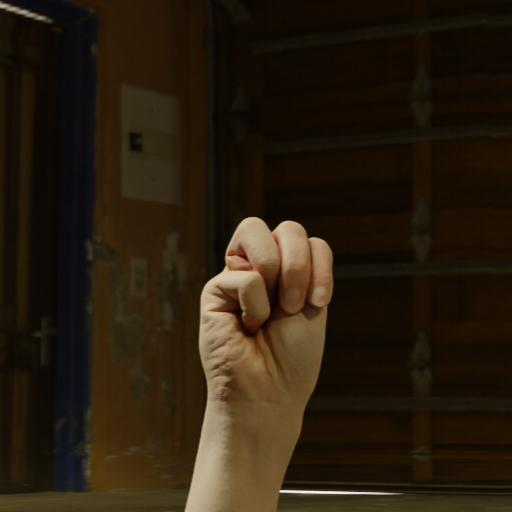M: (184, 204, 350, 468)
